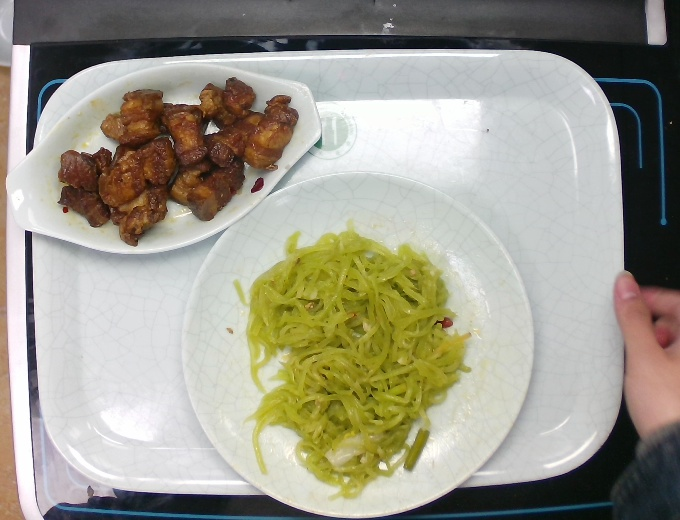JYsf-Da_Yuan_Pan: (176, 167, 539, 520)
JYsf-Yu_Pan: (1, 57, 327, 260)
